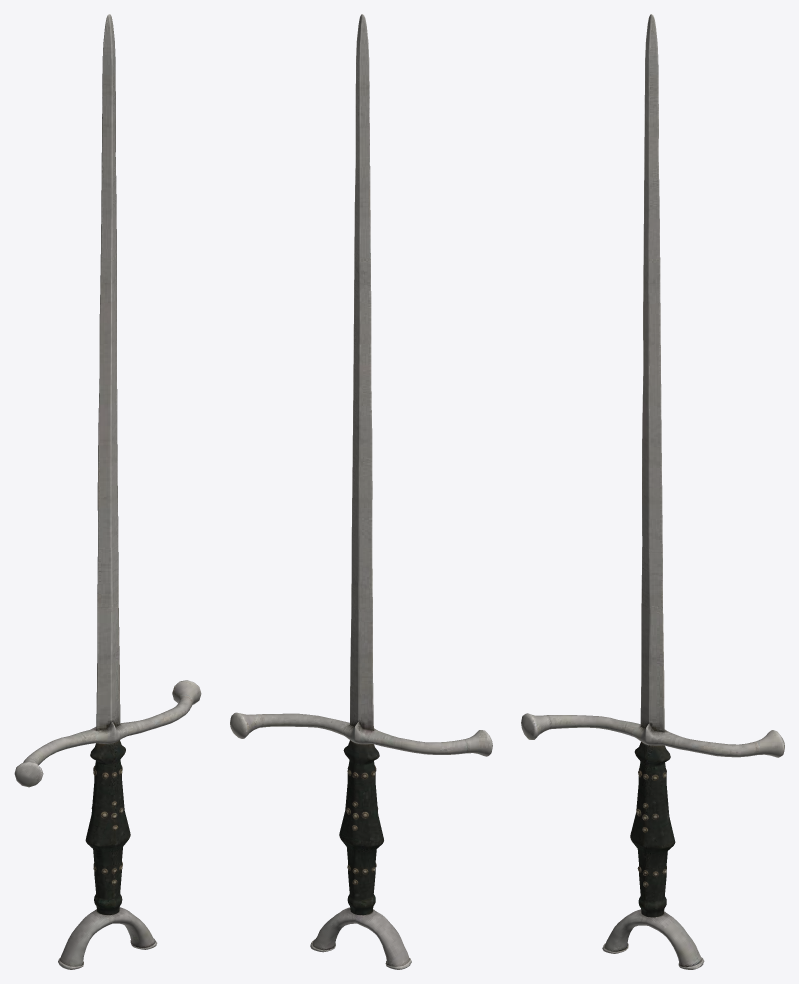
File: natural-sword-quiet.glb
3 views of the same model, side by side, from view 1: azimuth 30°, elevation 25°; view 2: azimuth 150°, elevation 25°; view 3: azimuth 330°, elevation 25° (orthographic).
Visible parts, largest first — view 1: natural-sword-quiet runtime mesh; view 2: natural-sword-quiet runtime mesh; view 3: natural-sword-quiet runtime mesh.
Part boxes in pixels (x1=…): natural-sword-quiet runtime mesh: x1=14, y1=14, x2=201, y2=969; natural-sword-quiet runtime mesh: x1=230, y1=14, x2=492, y2=969; natural-sword-quiet runtime mesh: x1=521, y1=14, x2=784, y2=969.
Size of the model in its own units: 0.2738 by 1.1 by 0.1099.
1 material, 1 textured.
